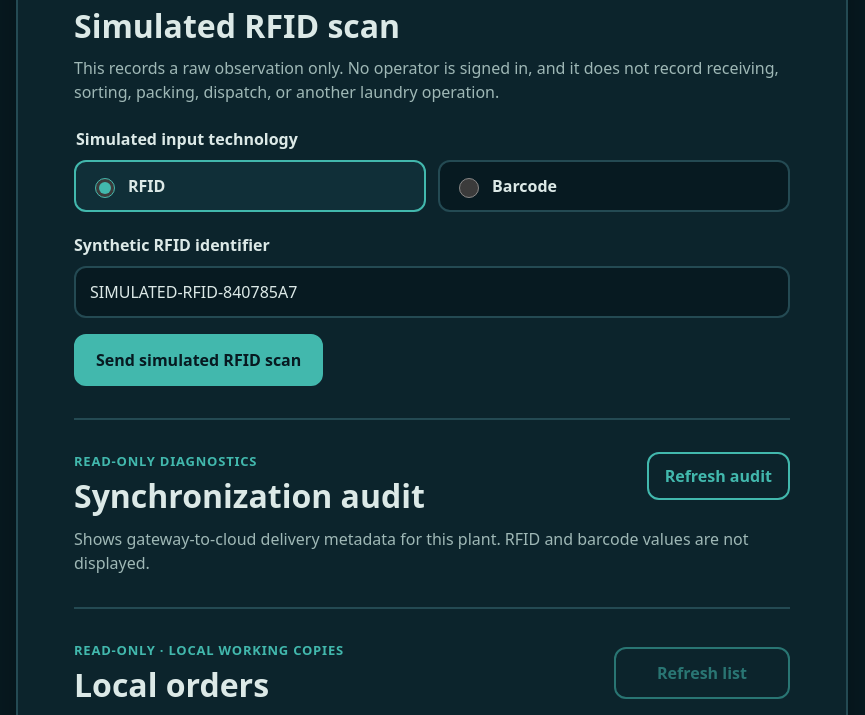
Test: station application foundation › shows local durability without claiming the laundry operation completed
(page scrolled)
Click the button "Send simulated RFID scan".
click(199, 360)  # box x1=74 y1=334 x2=323 y2=386
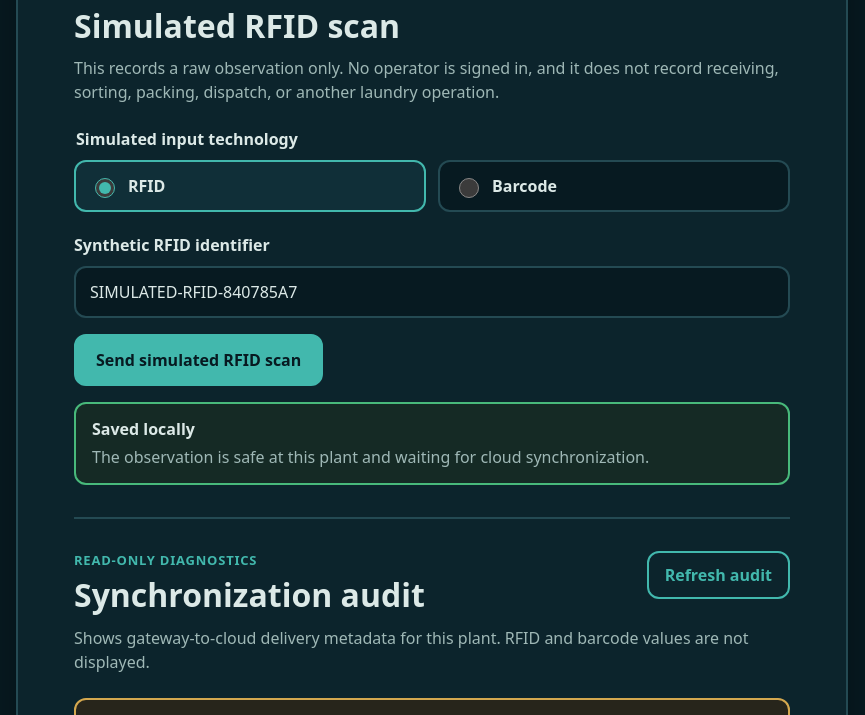
expect the text "does not record receiving" is shown: met, box x1=74 y1=57 x2=779 y2=103
expect the text "Saved locally" is shown: met, box x1=92 y1=418 x2=195 y2=440
expect the text "waiting for cloud synchronization" is shown: met, box x1=92 y1=446 x2=649 y2=468
